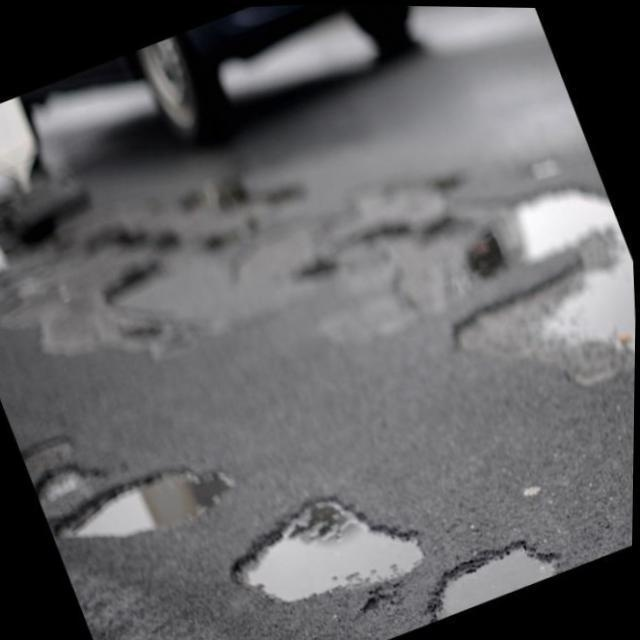pothole: (371, 184, 607, 346), (233, 466, 416, 602), (56, 444, 214, 548), (432, 521, 568, 626)
